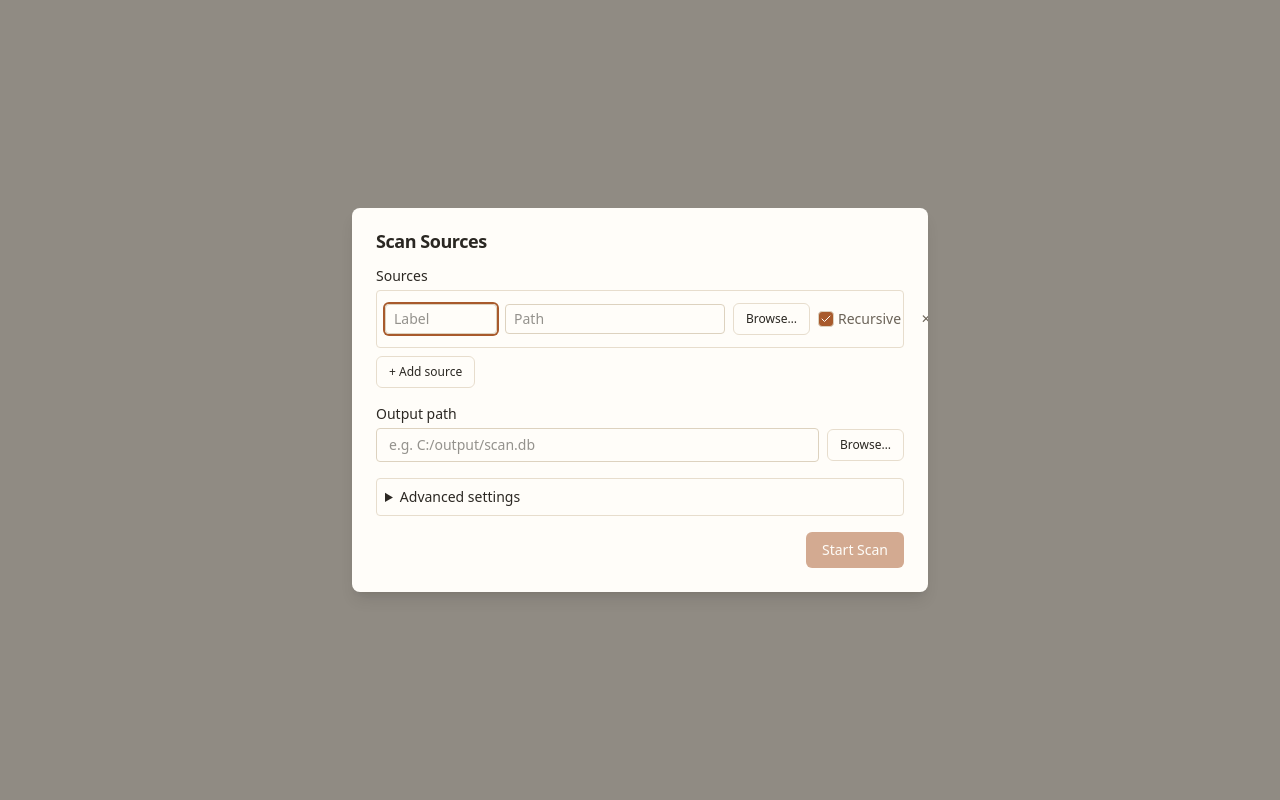
it: ScanDialog › adds a source row when Add source is clicked
The width and height of the screenshot is (1280, 800).
Click the button with test id "scan-add-source-button": (426, 372) [376, 356, 475, 388]
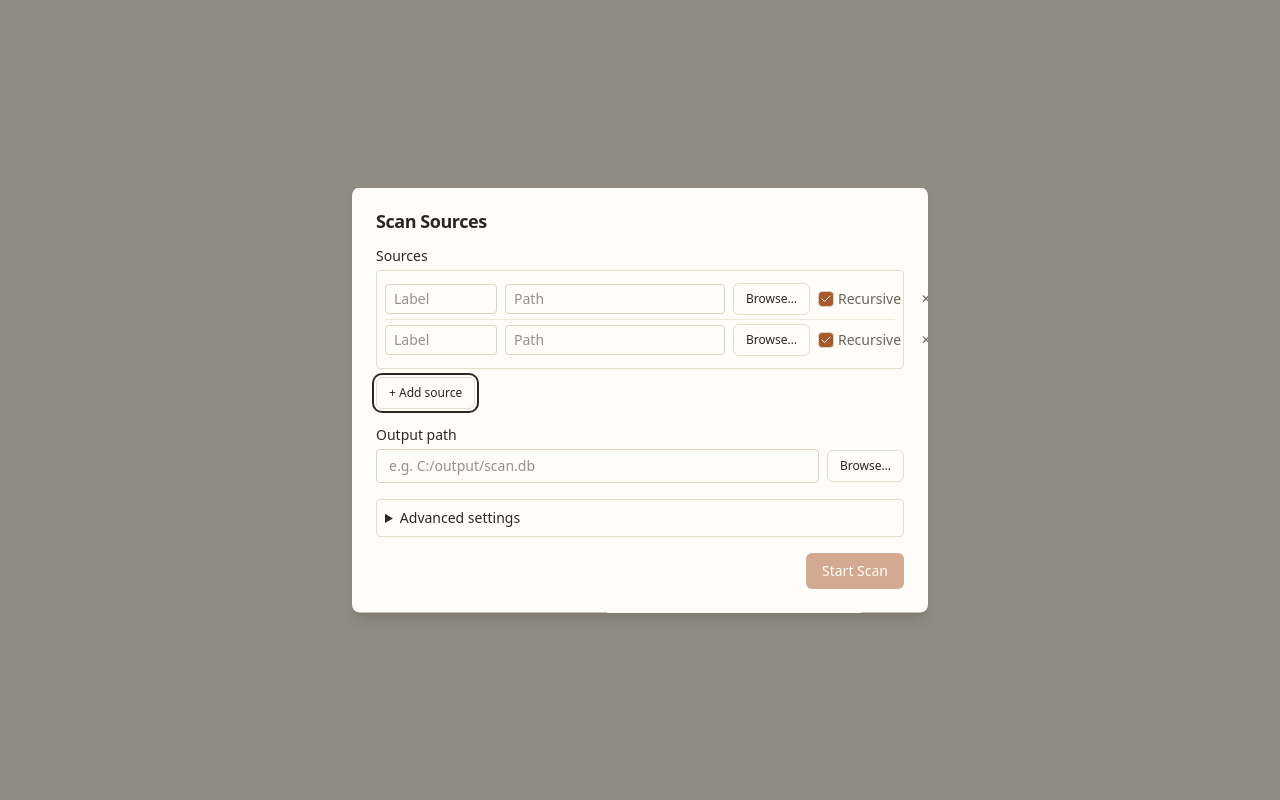
Expected: the number of fields named "source label" is 2, [385, 284, 497, 314]; [385, 324, 497, 354]
